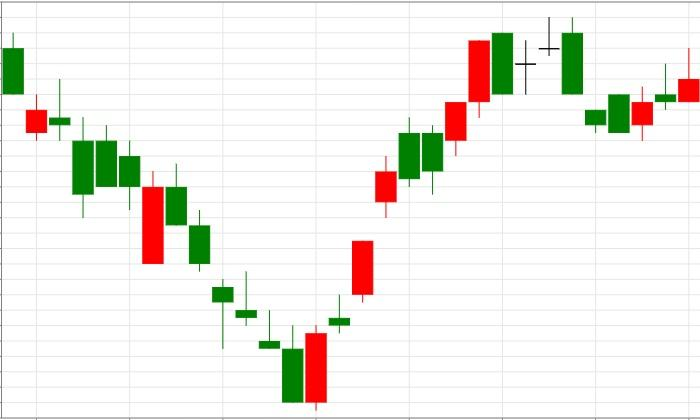bullish_engulfing_rise: (2, 32, 328, 411)
